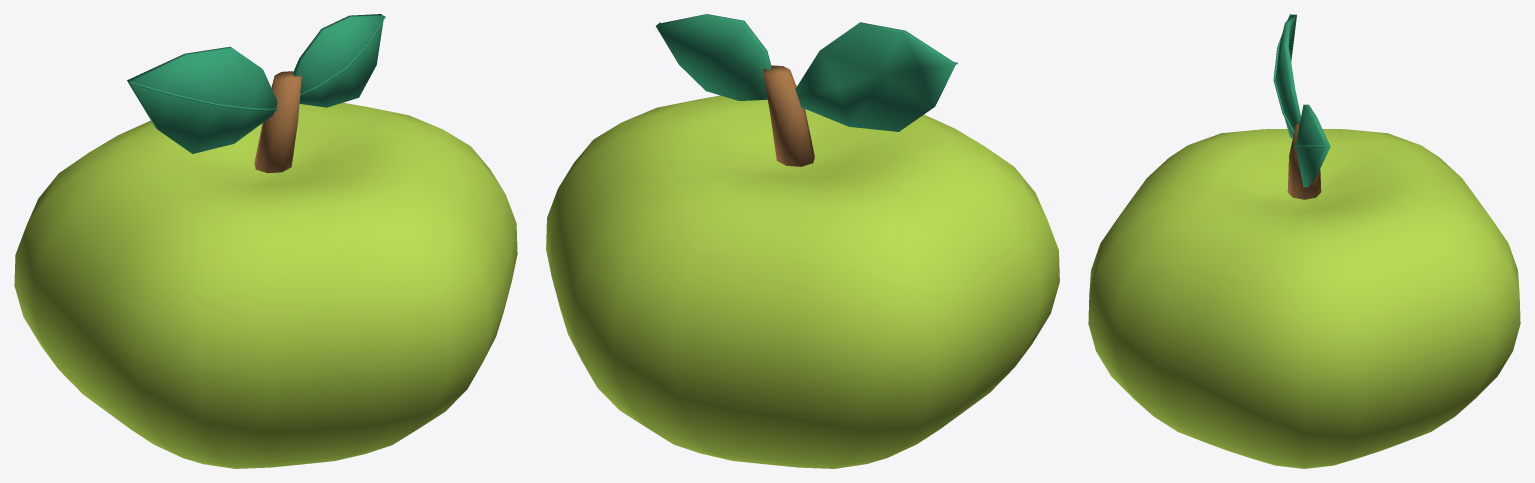
File: SM_S1_Apple.fbx
3 views of the same model, side by side, from view 1: azimuth 30°, elevation 25°; view 2: azimuth 150°, elevation 25°; view 3: azimuth 270°, elevation 25° (orthographic). The views are drawn at different scales.
Visible parts, largest first — view 1: SM_S1_Apple; view 2: SM_S1_Apple; view 3: SM_S1_Apple.
Boxes of the visible parts, box(x1,y1,x2,y2) form: SM_S1_Apple: box(14, 14, 517, 468); SM_S1_Apple: box(546, 14, 1059, 468); SM_S1_Apple: box(1088, 14, 1520, 468).
Size of the model in its own units: 0.7 by 0.6194 by 0.6679.
